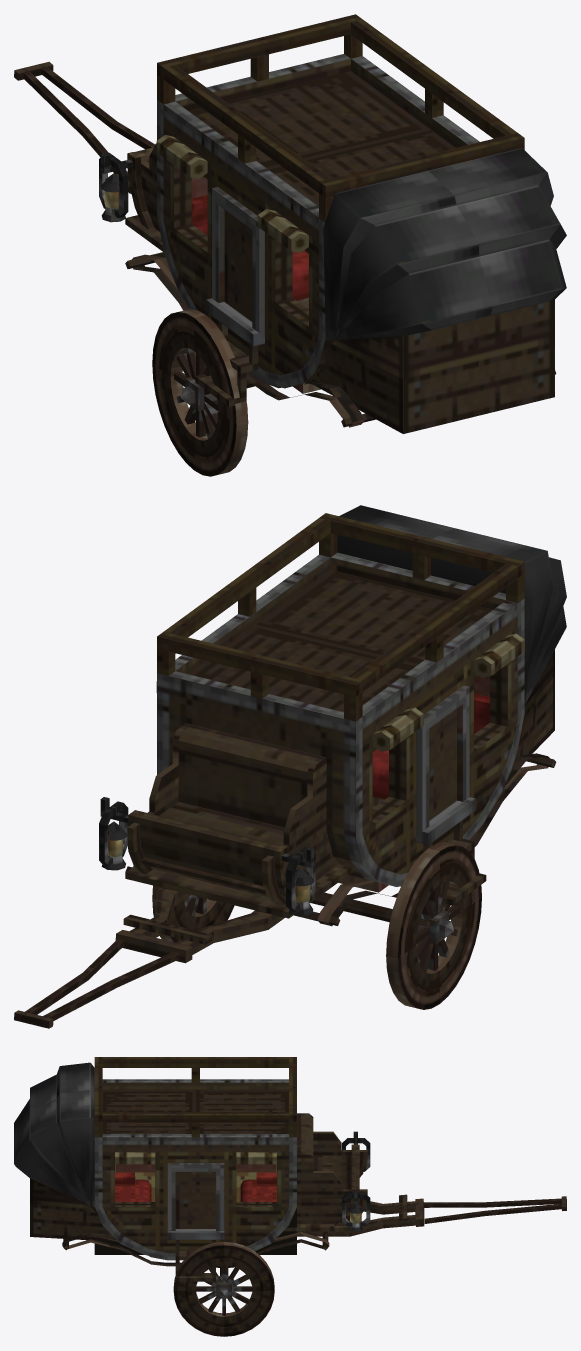
Rendered from ObjMD_Ev_Carriage_A_Body.FBX.
3 renders of one model, top to bottom at view 1: azimuth 30°, elevation 25°; view 2: azimuth 150°, elevation 25°; view 3: azimuth 270°, elevation 25°, orthographic. The views are drawn at different scales.
Visible parts, largest first — view 1: ObjMD_Ev_Carriage_A_Body, ObjMD_Ev_Carriage_A_Wheel_B, ObjMD_Ev_Carriage_A_Wheel_F; view 2: ObjMD_Ev_Carriage_A_Body, ObjMD_Ev_Carriage_A_Wheel_B, ObjMD_Ev_Carriage_A_Wheel_F; view 3: ObjMD_Ev_Carriage_A_Body, ObjMD_Ev_Carriage_A_Panel_L, ObjMD_Ev_Carriage_A_Wheel_B, ObjMD_Ev_Carriage_A_Wheel_F.
Part boxes in pixels (left/top/right/bottom): ObjMD_Ev_Carriage_A_Body: left=14, top=14, right=566, bottom=433; ObjMD_Ev_Carriage_A_Wheel_B: left=152, top=309, right=251, bottom=476; ObjMD_Ev_Carriage_A_Wheel_F: left=161, top=329, right=254, bottom=460; ObjMD_Ev_Carriage_A_Body: left=14, top=505, right=566, bottom=1028; ObjMD_Ev_Carriage_A_Wheel_B: left=152, top=842, right=481, bottom=1009; ObjMD_Ev_Carriage_A_Wheel_F: left=173, top=861, right=473, bottom=993; ObjMD_Ev_Carriage_A_Body: left=14, top=1057, right=566, bottom=1266; ObjMD_Ev_Carriage_A_Panel_L: left=102, top=1144, right=288, bottom=1281; ObjMD_Ev_Carriage_A_Wheel_B: left=173, top=1241, right=274, bottom=1336; ObjMD_Ev_Carriage_A_Wheel_F: left=184, top=1255, right=264, bottom=1327.
Bounding box in the file's own units: 293 × 366 × 854.
